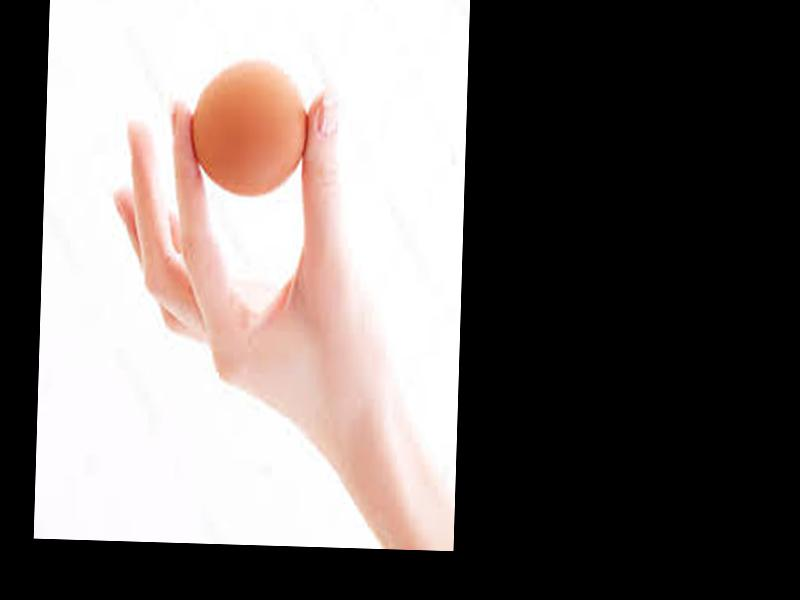Eggs: (188, 60, 310, 195)
